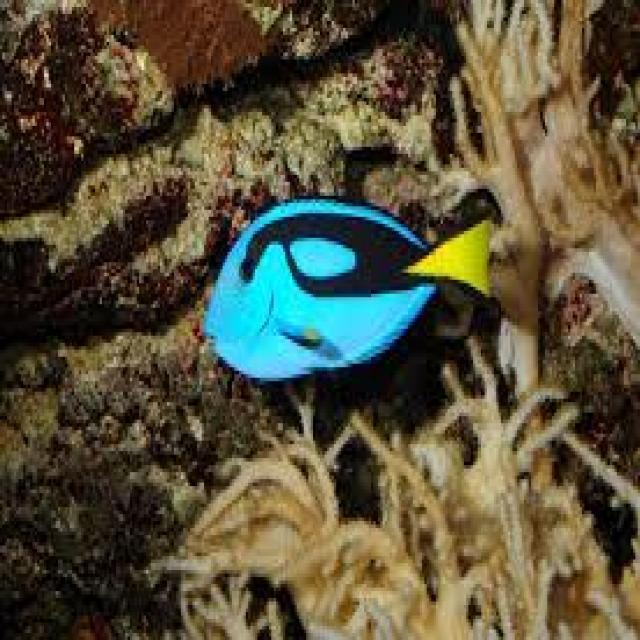BlueTang: (197, 198, 494, 386)
